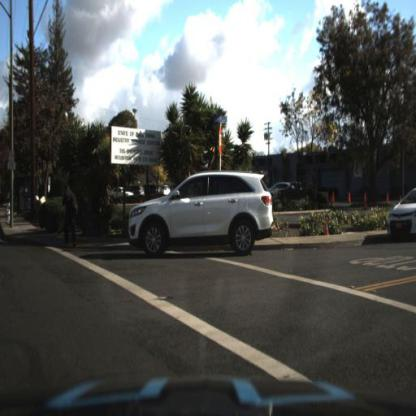car: (125, 168, 275, 257), (384, 186, 416, 243), (274, 175, 316, 215), (281, 179, 317, 202), (263, 180, 297, 203), (112, 184, 134, 205), (133, 186, 150, 207)
pedestrian: (62, 183, 79, 249)
